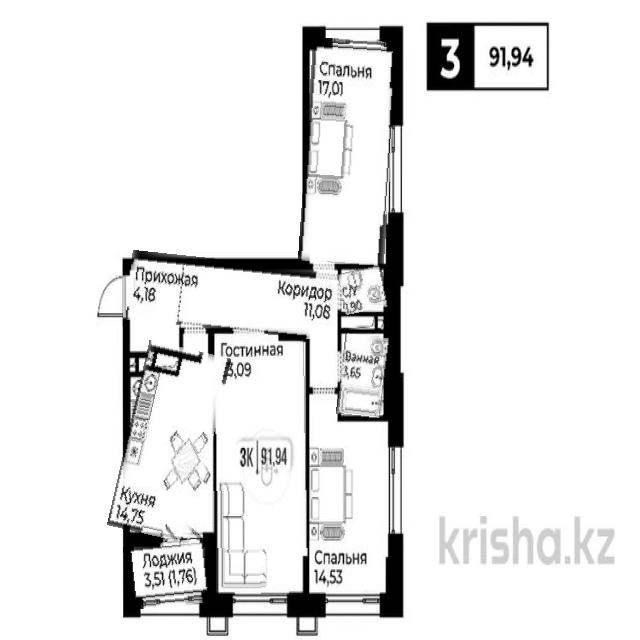balcony: (124, 540, 212, 608)
bathroom: (338, 334, 387, 417), (339, 267, 388, 313)
hallway: (126, 256, 336, 336)
kitchen: (118, 344, 222, 540)
living_room: (211, 329, 307, 595), (302, 39, 396, 265), (306, 423, 389, 597)
